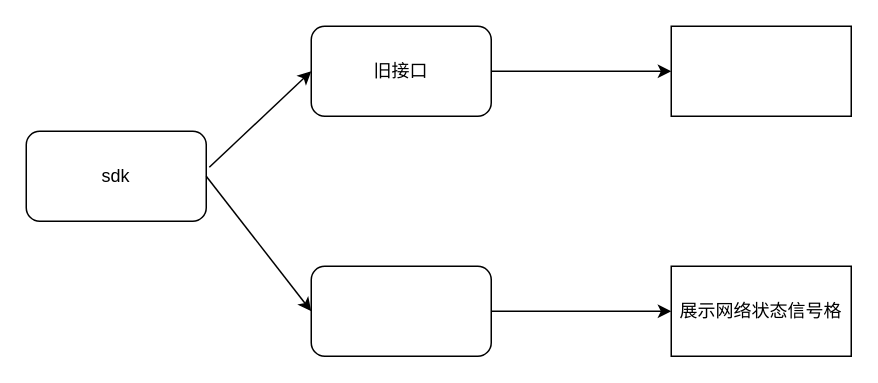
Some shapes in this 878 by 383 pixel diagram are drawn without their labels. Each missing label, with the centre of its shape:
"toast提示弱网" goes at [760,70].
"新接口" goes at [400,310].
